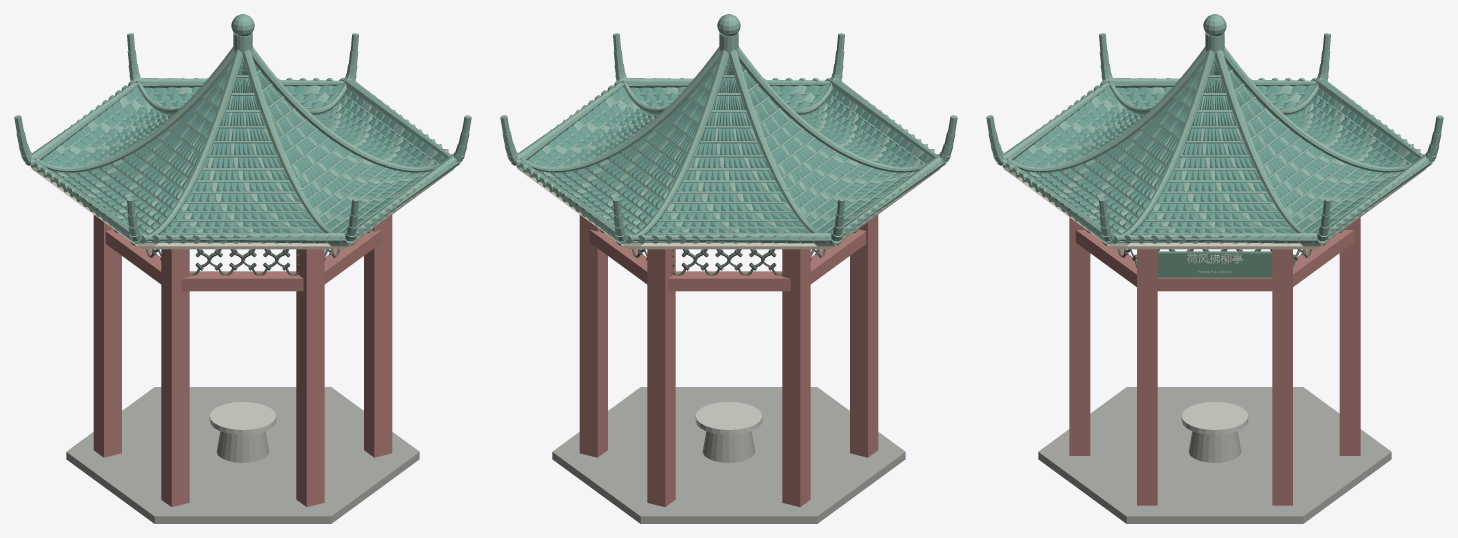
The model's file is pond-pavilion.glb.
The picture shows the model from 3 angles, left to right: view 1: azimuth 30°, elevation 25°; view 2: azimuth 150°, elevation 25°; view 3: azimuth 270°, elevation 25°; orthographic projection.
Parts seen in each view (by area): view 1: pond-pavilion; view 2: pond-pavilion; view 3: pond-pavilion.
Boxes of the visible parts, x1=… form: pond-pavilion: x1=14, y1=14, x2=471, y2=523; pond-pavilion: x1=500, y1=14, x2=957, y2=523; pond-pavilion: x1=986, y1=14, x2=1443, y2=523.
Size of the model in its own units: 5.73 by 7.07 by 6.6.
